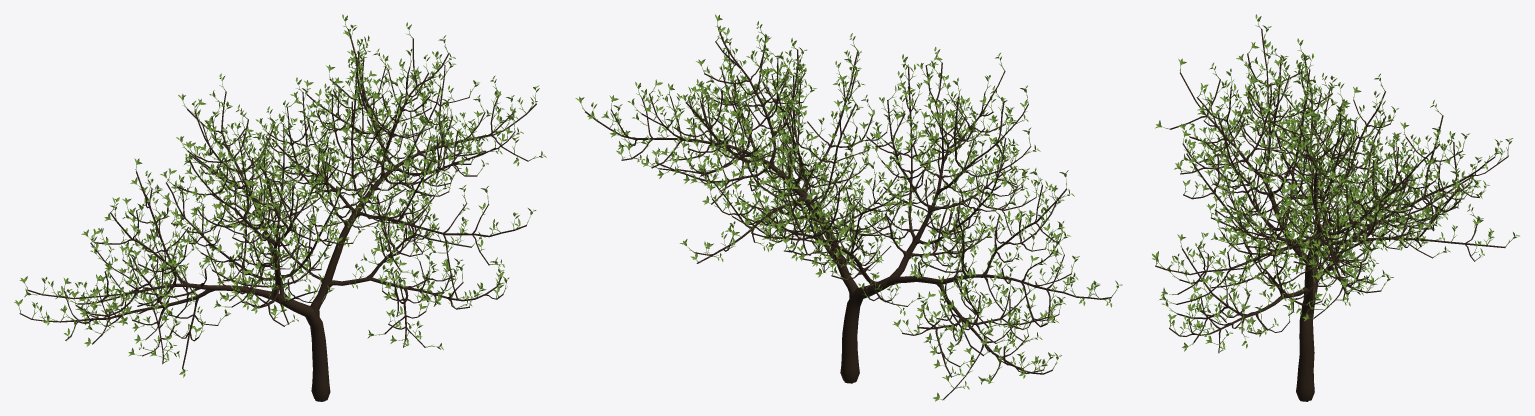
The model's file is persimmon_tree.glb.
3 views of the same model, side by side, from view 1: azimuth 30°, elevation 25°; view 2: azimuth 150°, elevation 25°; view 3: azimuth 270°, elevation 25° (orthographic). The views are drawn at different scales.
Parts seen in each view (by area): view 1: WholeKakiLeafCrown, WholeKakiBarkAndTwigs; view 2: WholeKakiLeafCrown, WholeKakiBarkAndTwigs; view 3: WholeKakiLeafCrown, WholeKakiBarkAndTwigs.
Part boxes in pixels (x1,y1,x2,y2): WholeKakiLeafCrown: (14, 14, 546, 377); WholeKakiBarkAndTwigs: (19, 29, 536, 401); WholeKakiLeafCrown: (575, 14, 1122, 401); WholeKakiBarkAndTwigs: (585, 29, 1111, 399); WholeKakiLeafCrown: (1152, 14, 1519, 352); WholeKakiBarkAndTwigs: (1155, 29, 1508, 401).
Bounding box in the file's own units: 4.95 × 3 × 2.97.
